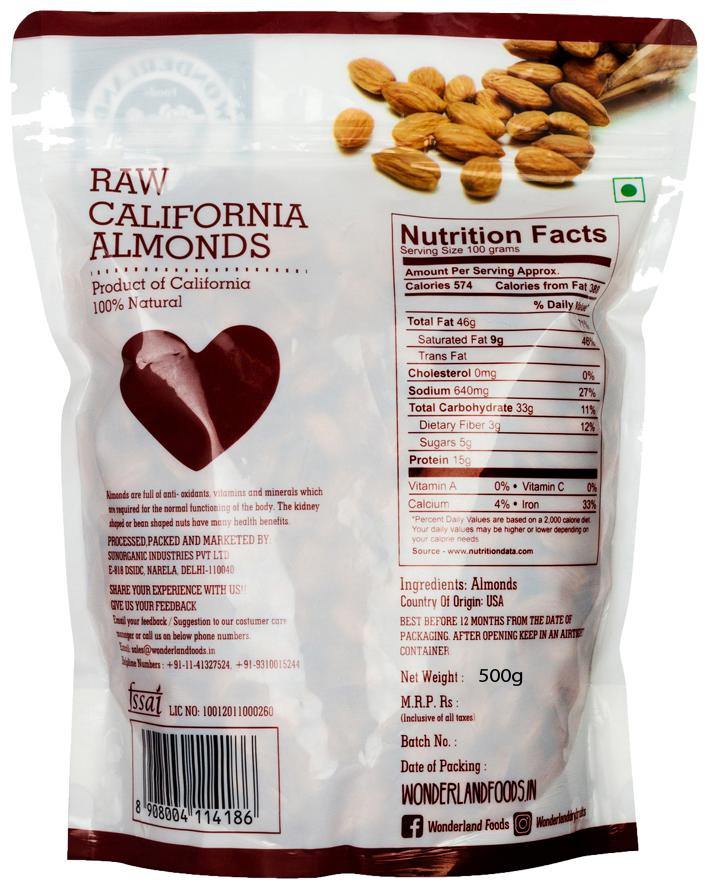fssai: (126, 680, 164, 717)
